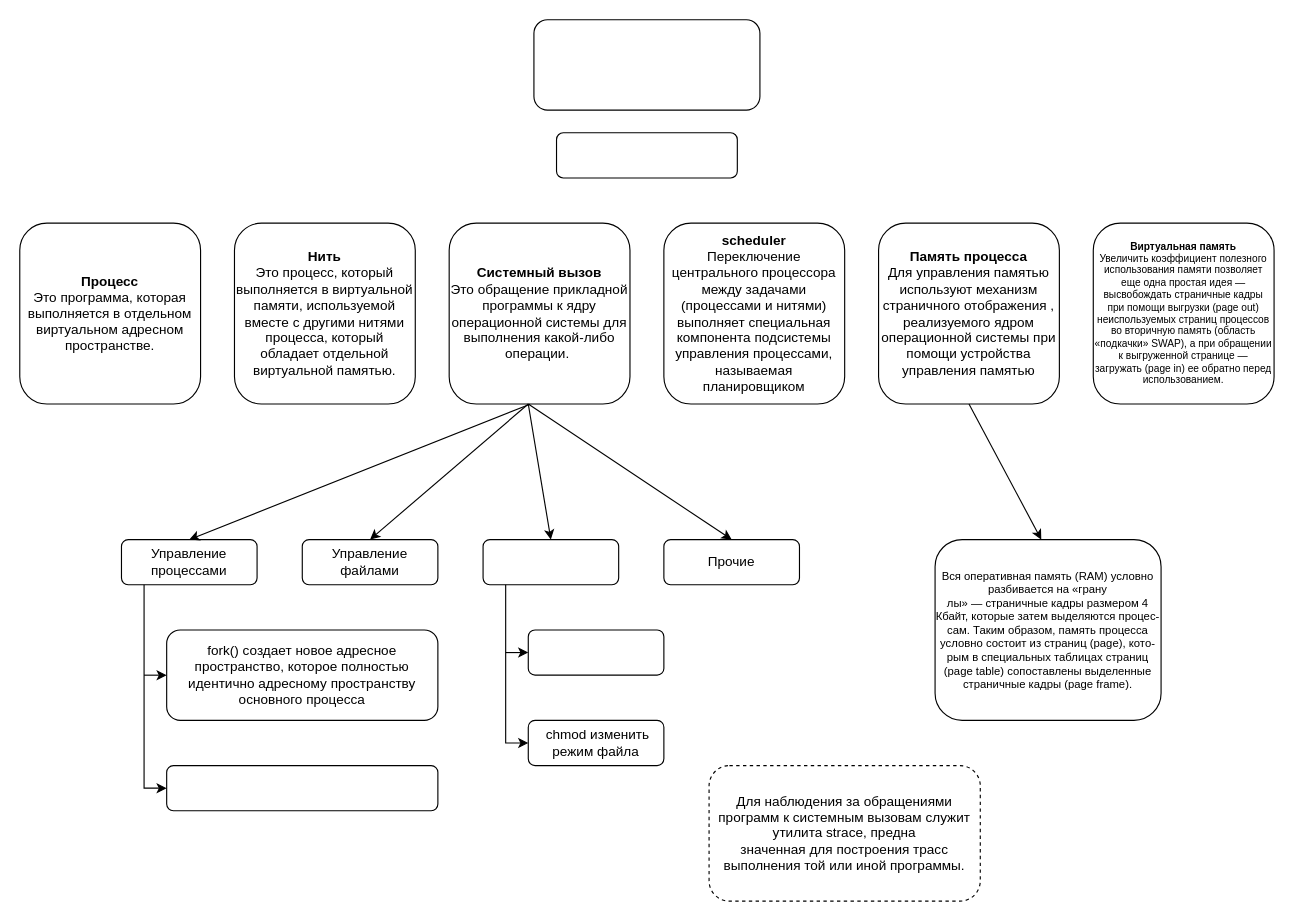
This 1294x921 diagram has some shape labels left out. The centre of each missing label's shape, as x and y in pixels:
Linux Fundamentals: (x=646, y=64)
mkdir создать каталог: (x=595, y=652)
nice меняет приоритет процесса разделения времени: (x=302, y=787)
Процессы. Системные вызовы, нити.: (x=646, y=155)
Управление каталогами и файловой системой: (x=550, y=561)
